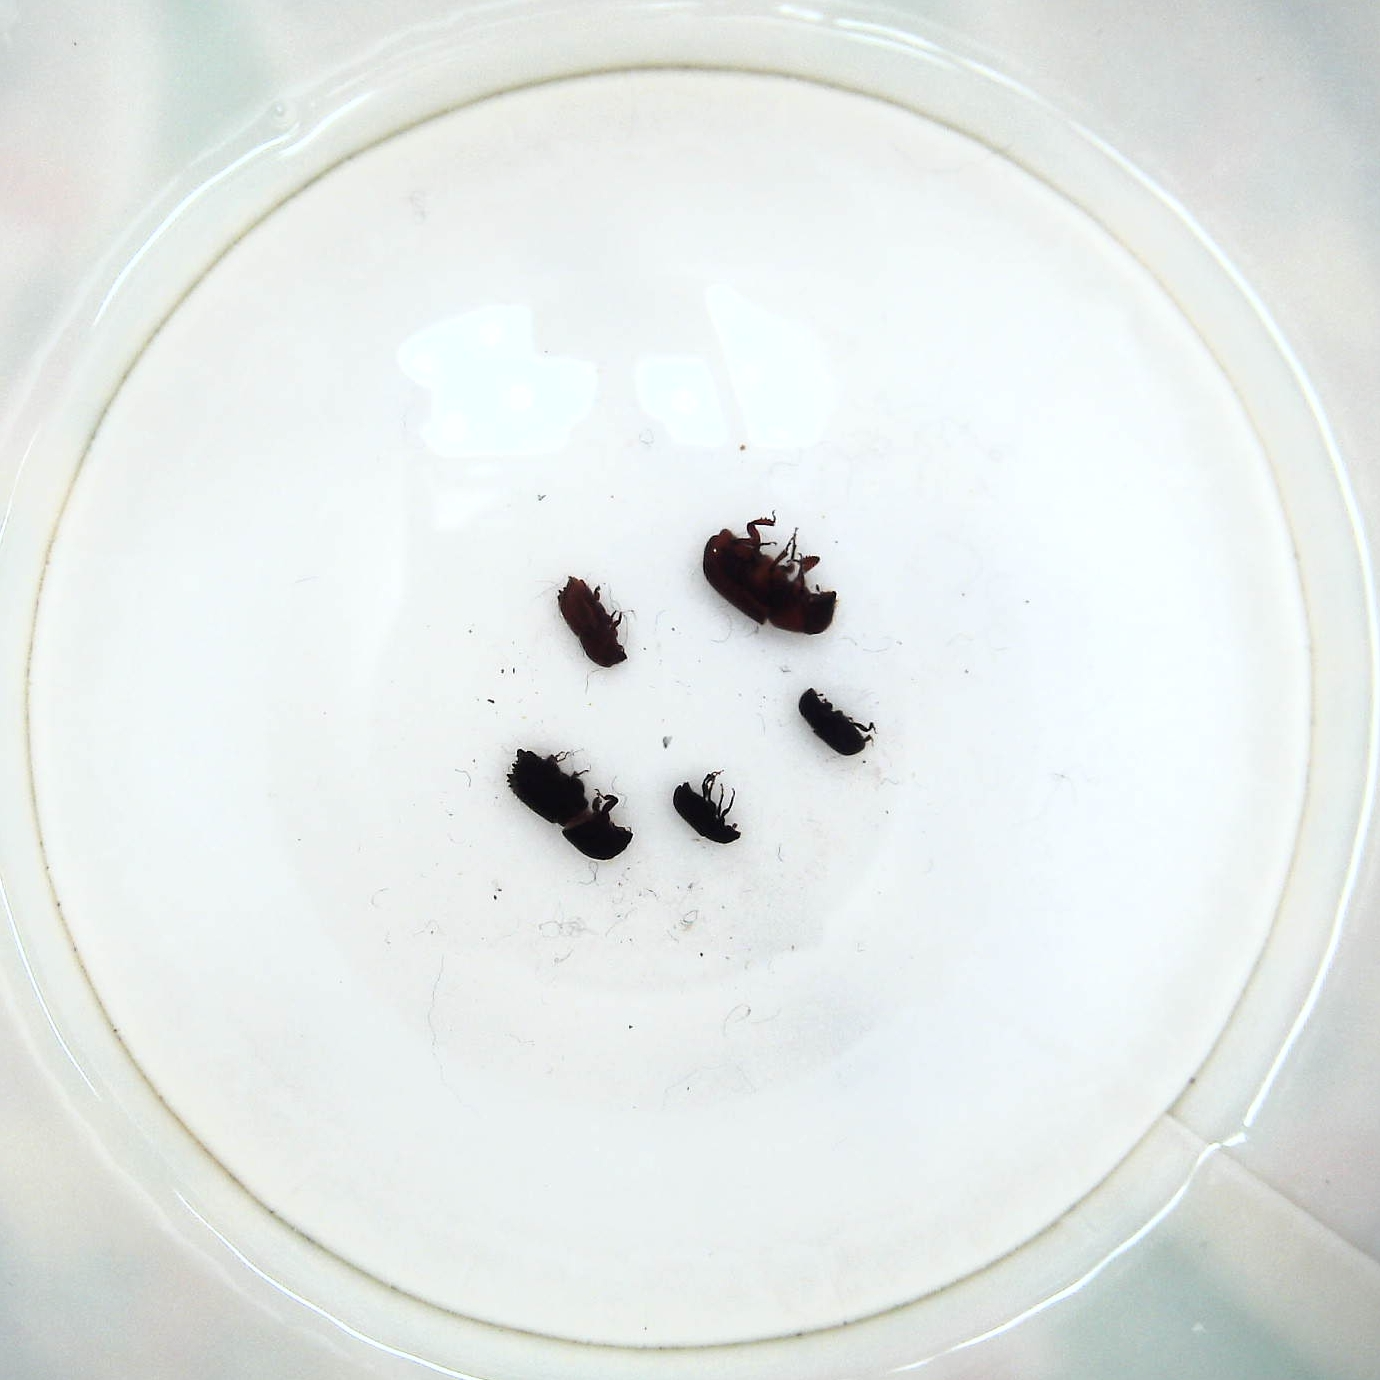Boerner: (504, 746, 638, 864)
Leconte: (699, 516, 845, 645)
armandi: (792, 686, 875, 762)
coleoptera: (670, 770, 741, 847)
linnaeus: (559, 574, 628, 674)
